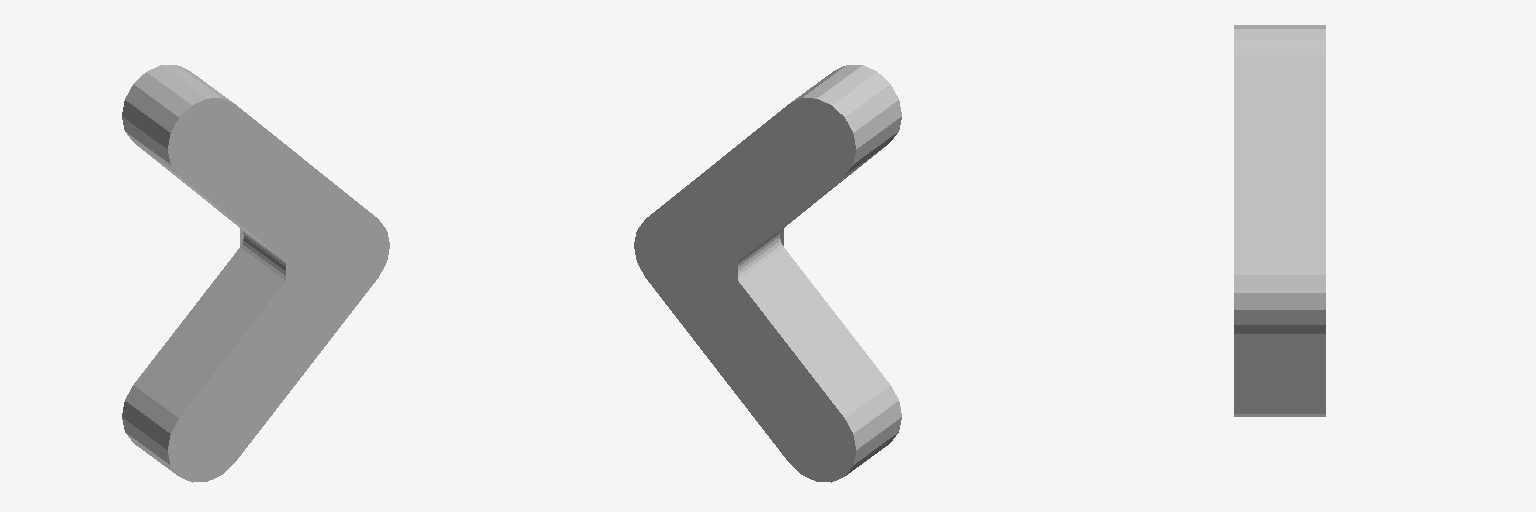
Rendered from Arrow_36.obj.
The picture shows the model from 3 angles: view 1: azimuth 30°, elevation 25°; view 2: azimuth 150°, elevation 25°; view 3: azimuth 270°, elevation 25°; orthographic projection.
Parts seen in each view (by area): view 1: Arrow_36; view 2: Arrow_36; view 3: Arrow_36.
Part boxes in pixels (x1,y1,x2,y2): Arrow_36: (122, 65, 389, 482); Arrow_36: (634, 65, 901, 482); Arrow_36: (1234, 25, 1325, 416).
Bounding box in the file's own units: 2.39 × 3.93 × 0.852.